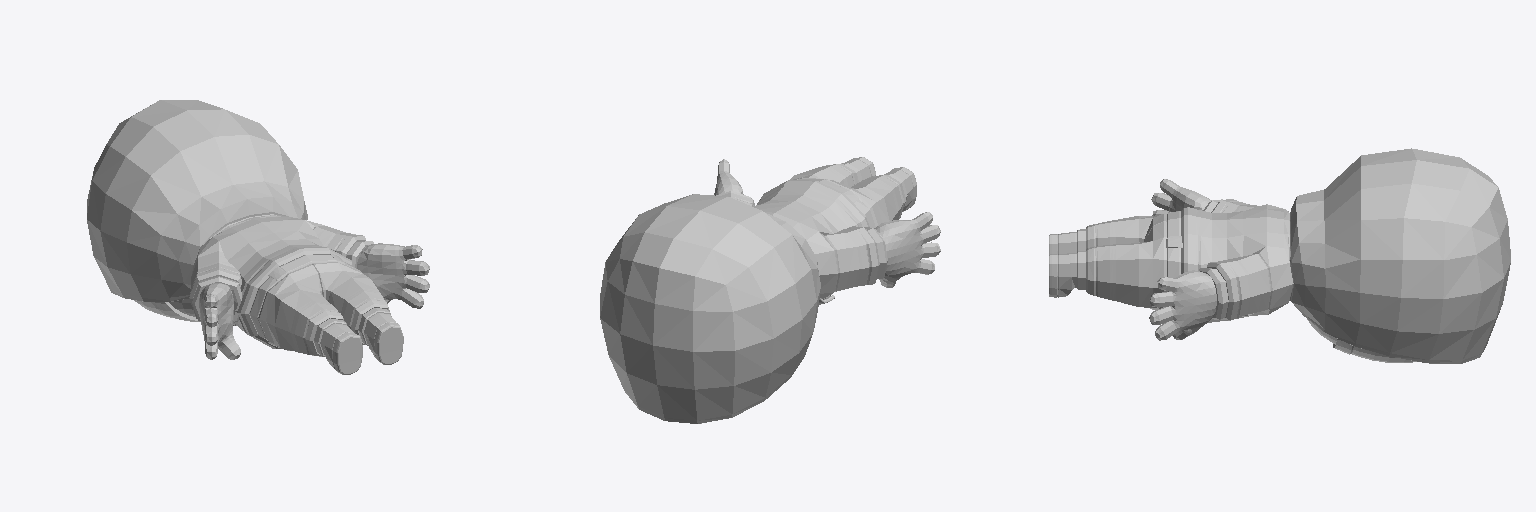
File: player_stand.obj
The picture shows the model from 3 angles: view 1: azimuth 30°, elevation 25°; view 2: azimuth 150°, elevation 25°; view 3: azimuth 270°, elevation 25°; orthographic projection.
Parts seen in each view (by area): view 1: PinkSoldier_v01.001; view 2: PinkSoldier_v01.001; view 3: PinkSoldier_v01.001.
Boxes of the visible parts, <box> form: PinkSoldier_v01.001: <box>87,100,429,374</box>; PinkSoldier_v01.001: <box>600,157,940,423</box>; PinkSoldier_v01.001: <box>1049,148,1510,363</box>.
Size of the model in its own units: 9 by 7.39 by 16.19.